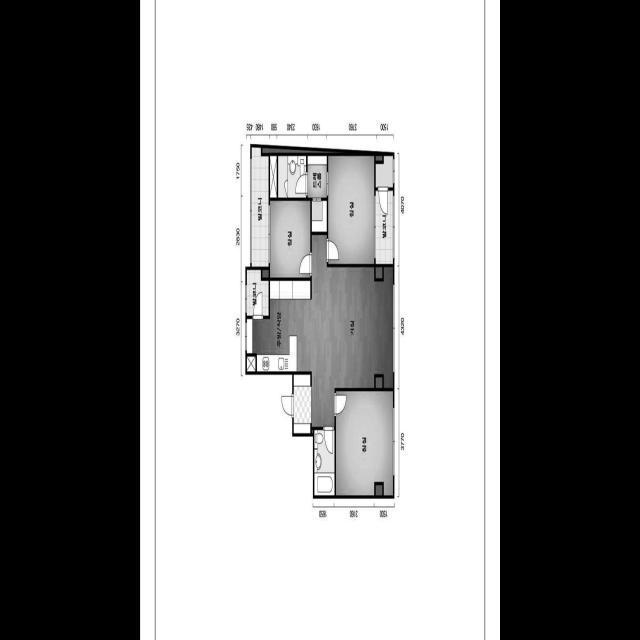background: (140, 0, 500, 640)
space_balconi: (252, 147, 269, 267), (376, 190, 393, 263), (247, 269, 269, 315)
space_bedroom: (336, 390, 393, 495), (328, 156, 374, 264), (270, 200, 310, 277)
space_dressroom: (308, 155, 327, 231)
space_front: (293, 374, 312, 433)
space_kitchen: (247, 280, 312, 371)
space_living_room: (312, 235, 393, 426)
space_other: (376, 156, 393, 187), (270, 155, 277, 197), (247, 356, 256, 371), (376, 484, 382, 495), (376, 267, 382, 278), (376, 377, 382, 387), (262, 269, 269, 277), (376, 155, 382, 160), (312, 429, 313, 432)
space_toilet: (314, 429, 335, 495), (278, 155, 306, 197)
